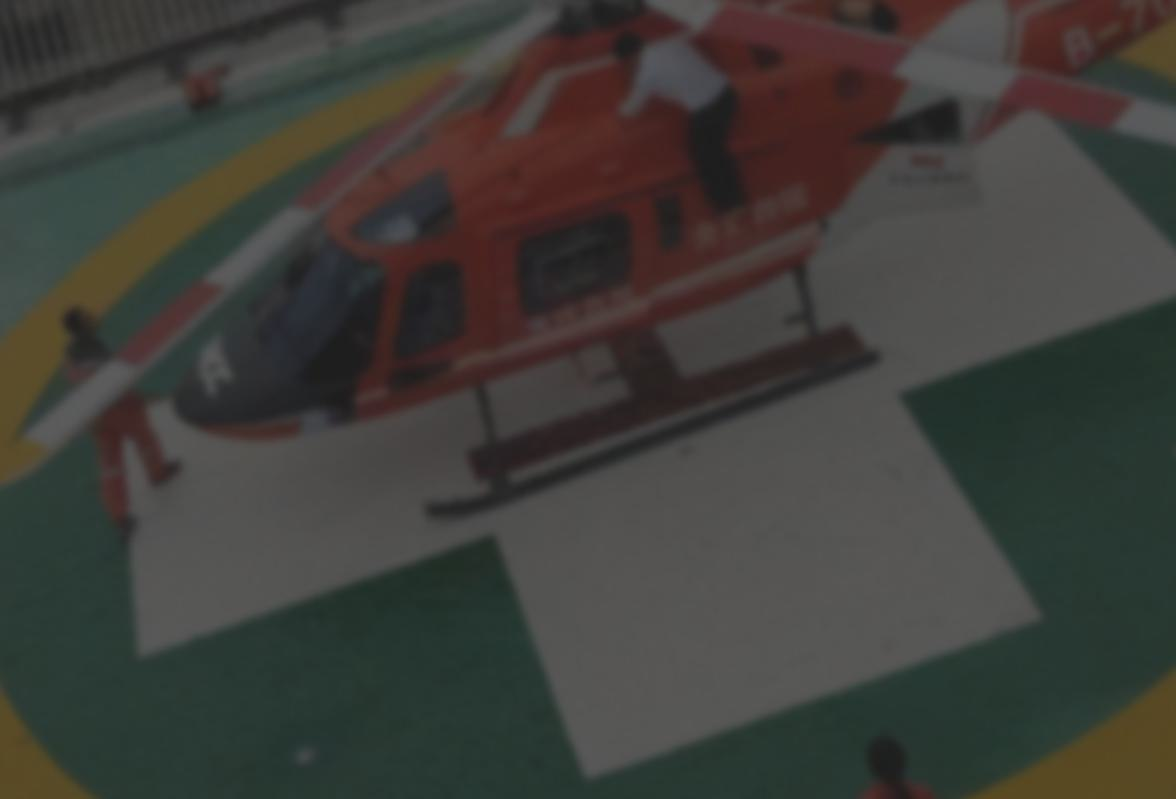Apron: (1, 52, 1176, 799)
